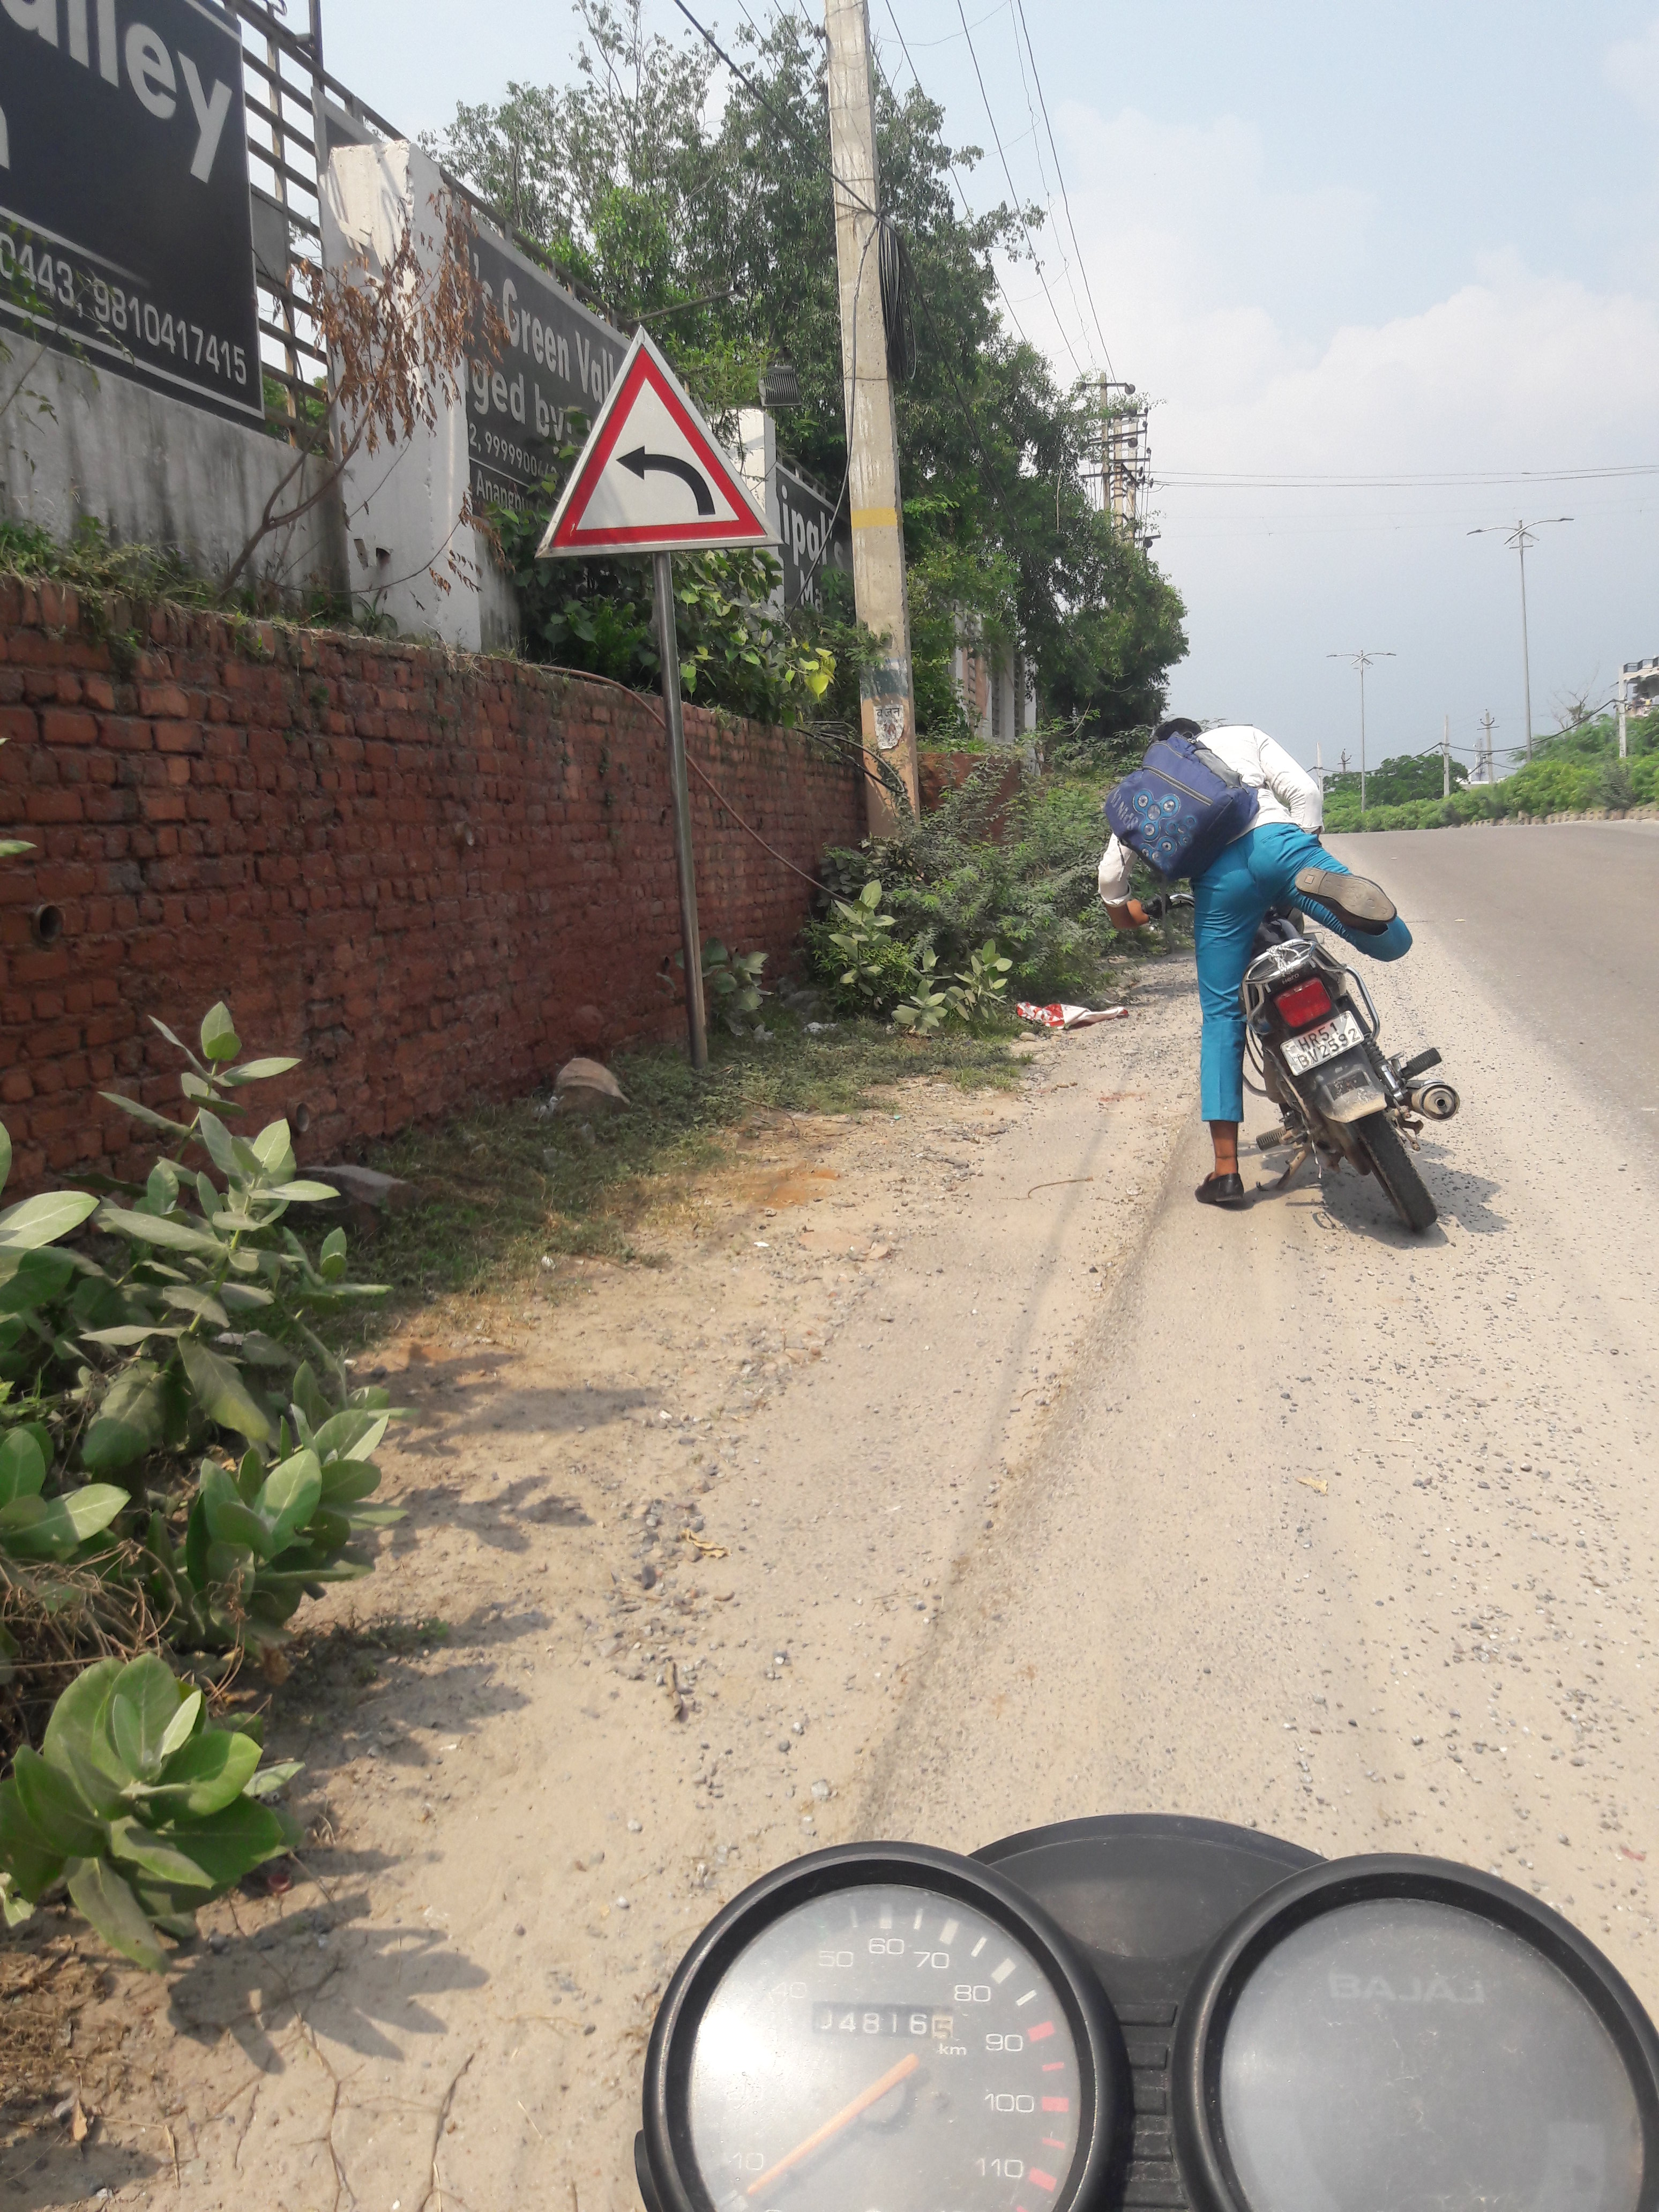traffic_sign: (530, 322, 784, 561)
